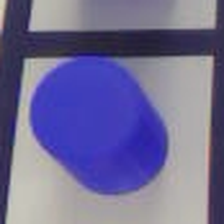cylinder: (22, 52, 188, 202)
